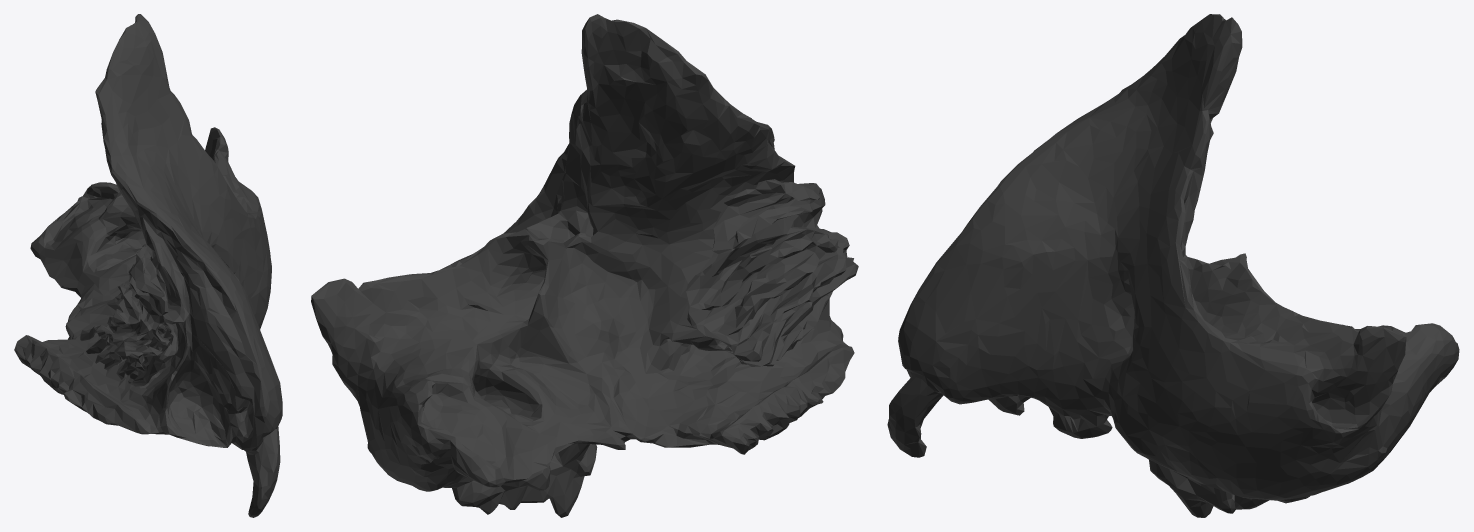
File: Maxilla_L.glb
3 renders of one model, left to right at view 1: azimuth 30°, elevation 25°; view 2: azimuth 150°, elevation 25°; view 3: azimuth 270°, elevation 25°, orthographic. The views are drawn at different scales.
Parts seen in each view (by area): view 1: Maxilla_L; view 2: Maxilla_L; view 3: Maxilla_L.
Boxes of the visible parts, box(x1,y1,x2,y2) form: Maxilla_L: box(14, 14, 282, 517); Maxilla_L: box(311, 14, 858, 517); Maxilla_L: box(887, 14, 1459, 517).
Size of the model in its own units: 275 by 389 by 422.
1 material, 1 textured.
